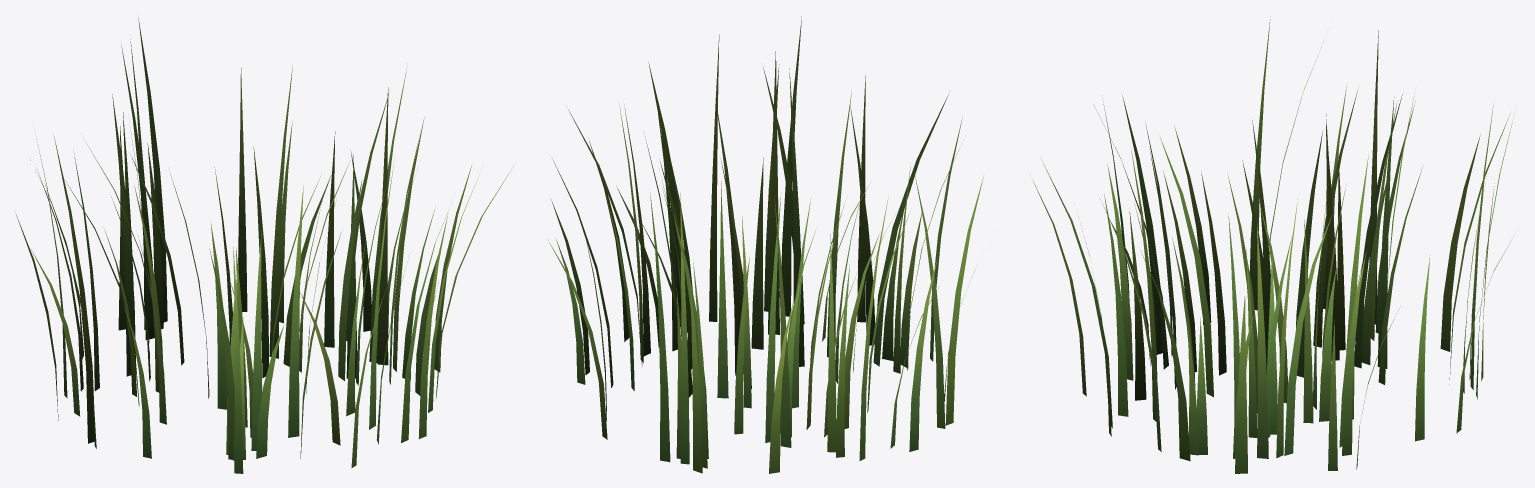
File: grass-lawn-a.lod0.glb
3 renders of one model, left to right at view 1: azimuth 30°, elevation 25°; view 2: azimuth 150°, elevation 25°; view 3: azimuth 270°, elevation 25°, orthographic. The views are drawn at different scales.
Visible parts, largest first — view 1: grass-lawn-a.lod0; view 2: grass-lawn-a.lod0; view 3: grass-lawn-a.lod0.
Part boxes in pixels (bbox=[...]): grass-lawn-a.lod0: bbox=[16, 18, 513, 473]; grass-lawn-a.lod0: bbox=[547, 16, 983, 473]; grass-lawn-a.lod0: bbox=[1032, 16, 1514, 473].
Bounding box in the file's own units: 0.2868 × 0.1936 × 0.2916.
